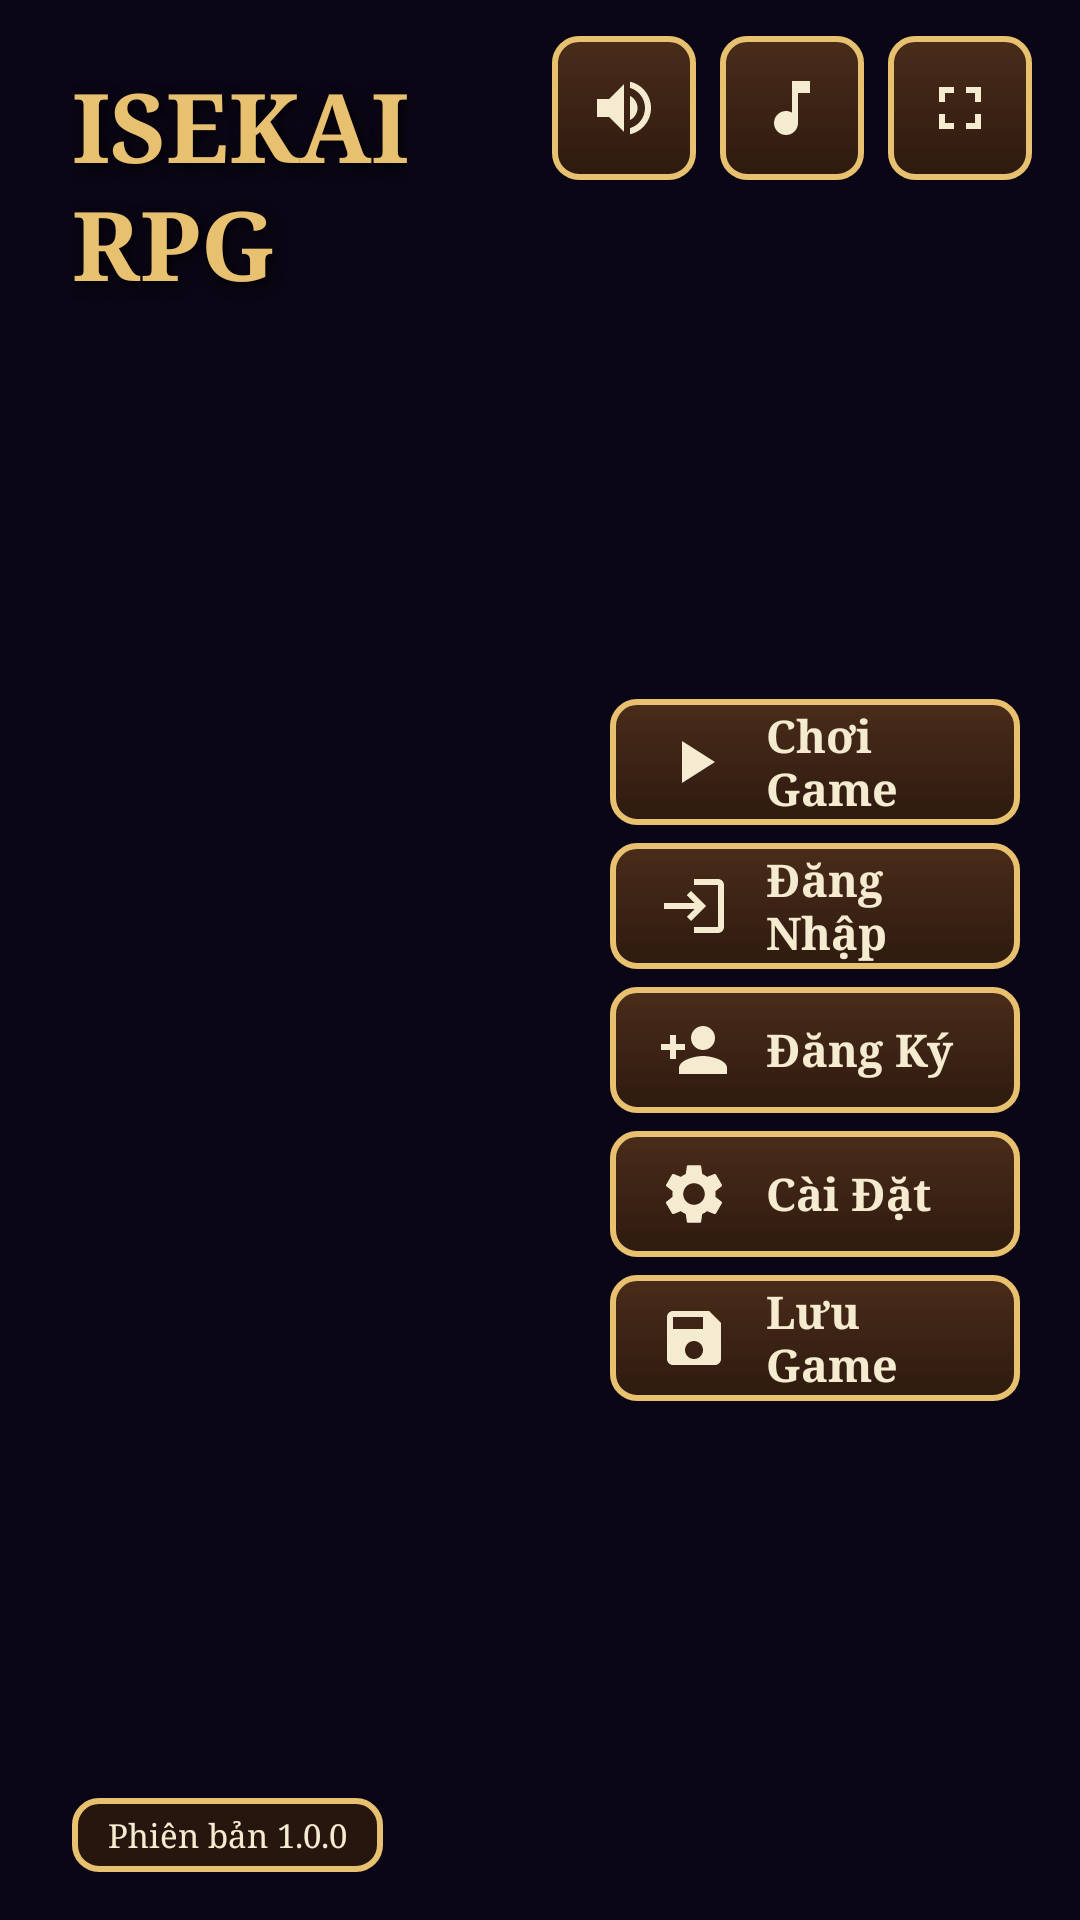

Locate icon controls on the screen. Image size 1080px×1920px, boxes as (x1, y1, x2, y2).
Bật/tắt nhạc nền: (720, 36, 864, 180)
Bật/tắt toàn màn hình: (888, 36, 1032, 180)
Bật/tắt âm thanh: (552, 36, 696, 180)
